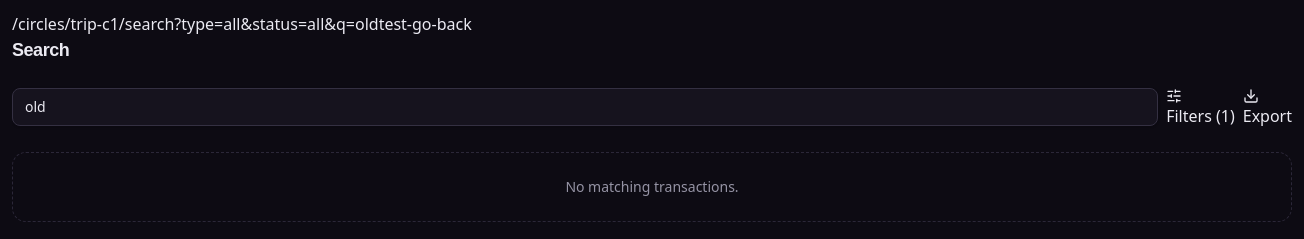
CircleSearch › resets page to 1 when submitting a new query from the search box
Replace the text in the search field named "Search title or note" with "new". click: (585, 107)
box: [12,88,1158,126]
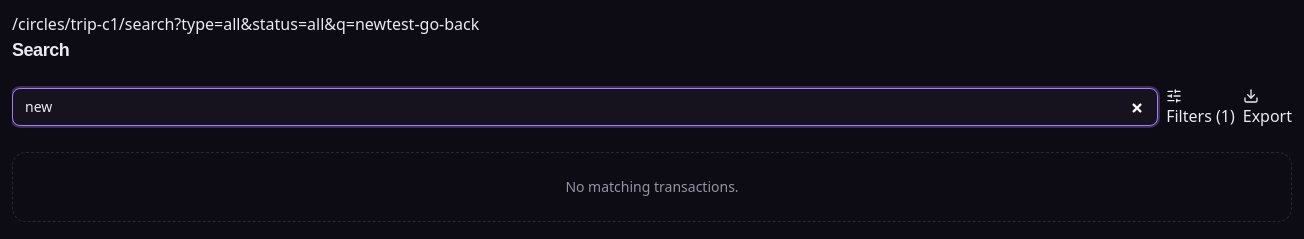
Now the text with test id "location" shows "q=new", box [12,13,386,35]
